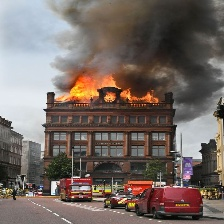fire: (57, 76, 161, 108)
smoke: (53, 1, 224, 84)
